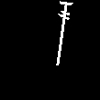treble_crochet: (56, 2, 72, 64)
